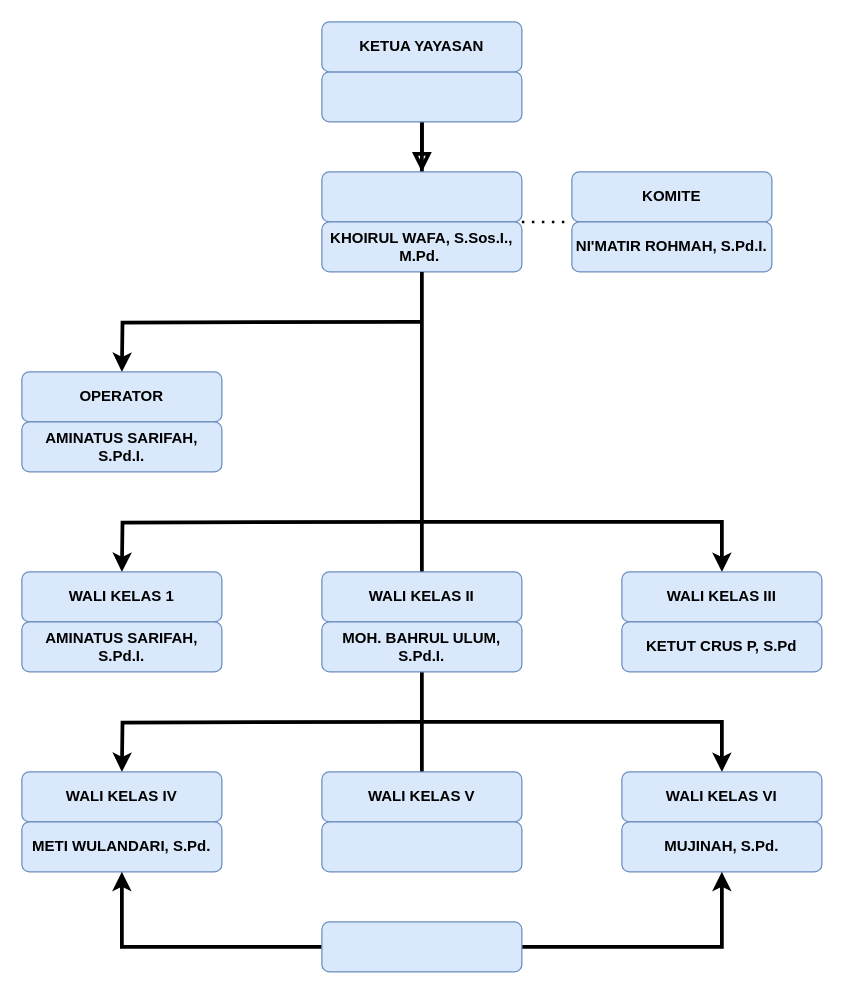
This 844x994 diagram has some shape labels left out. The centre of each missing label's shape, as x and y in pixels:
"KEPALA MADRASAH" belongs at (x=421, y=196).
"KH. MUHTAROM FAUZAN" belongs at (x=421, y=96).
"SISWA" belongs at (x=421, y=946).
"ST AINUN AISIYAH, S.Pd." belongs at (x=421, y=846).
